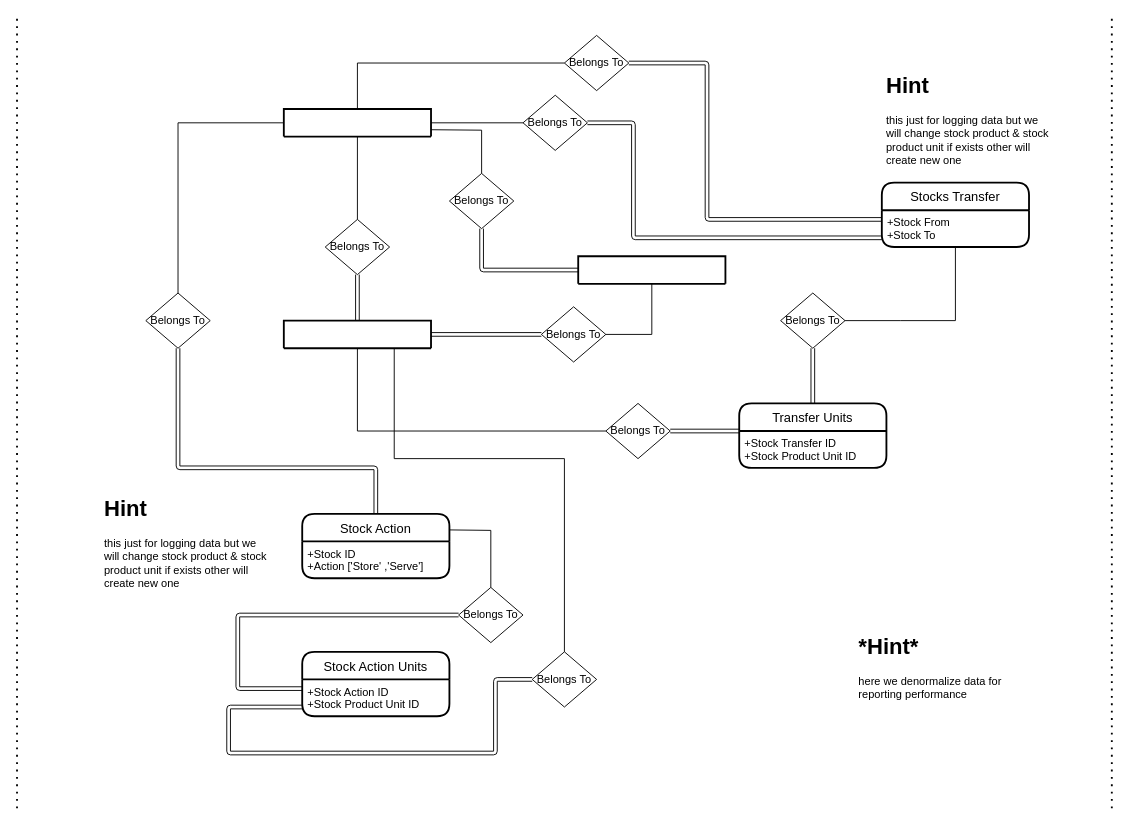
The diagram is 1129 pixels wide and 825 high, and some of its shapes have lost their labels. The shapes that lost their labels are listed below. From the top down, each one's centre as x and y in pixels, then its label:
At (x=356, y=122): "Stocks".
At (x=651, y=269): "Stock Products".
At (x=356, y=334): "Stock Product Units".
